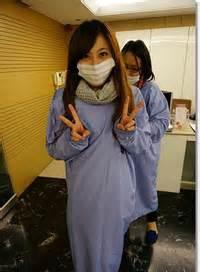WRONG: (80, 50, 112, 82), (120, 62, 141, 87)
